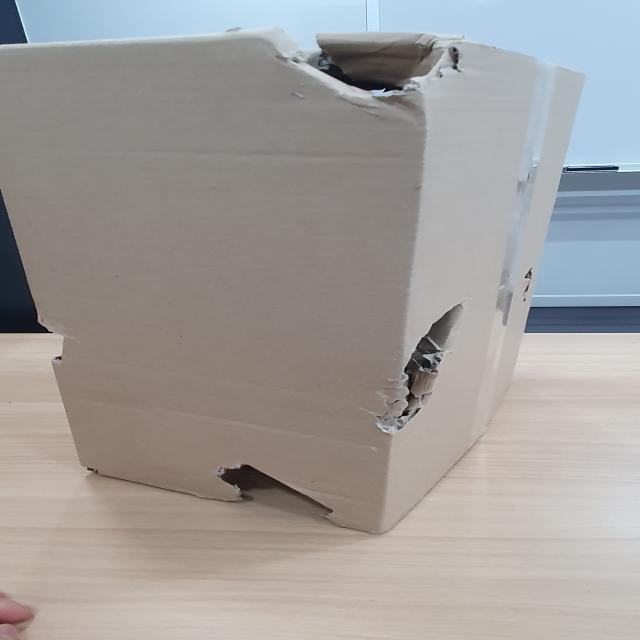hole: (273, 40, 470, 116), (201, 460, 366, 522), (386, 303, 460, 427)
